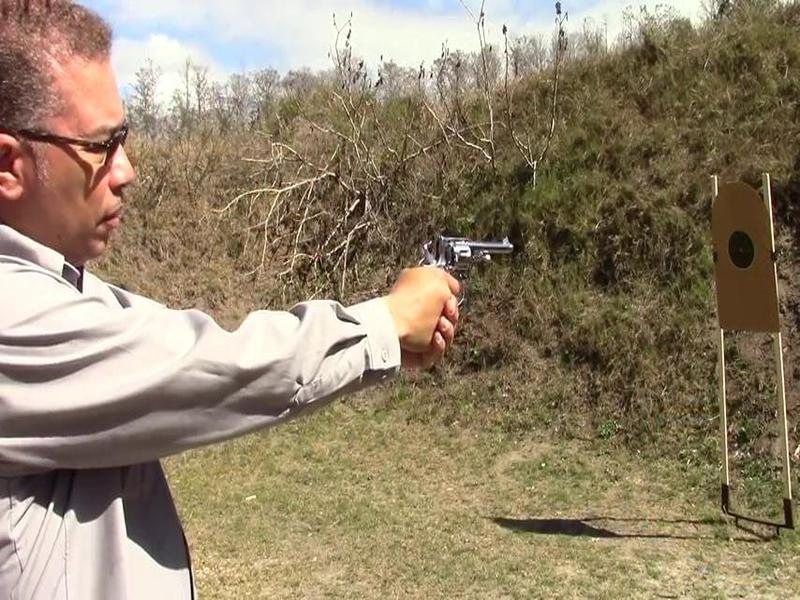Revolver: (428, 214, 521, 300)
